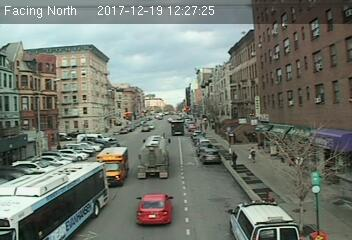car: (135, 193, 173, 226), (199, 146, 221, 162)
pedestrian: (228, 148, 239, 171)
police: (226, 199, 300, 240)
truck: (137, 134, 171, 180), (94, 146, 128, 189)
ups: (170, 119, 185, 137)
